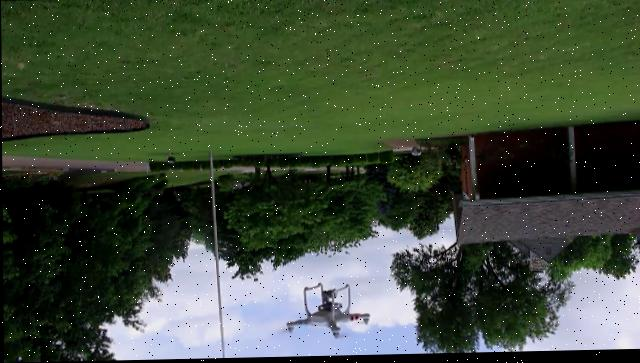drone: (283, 282, 371, 343)
